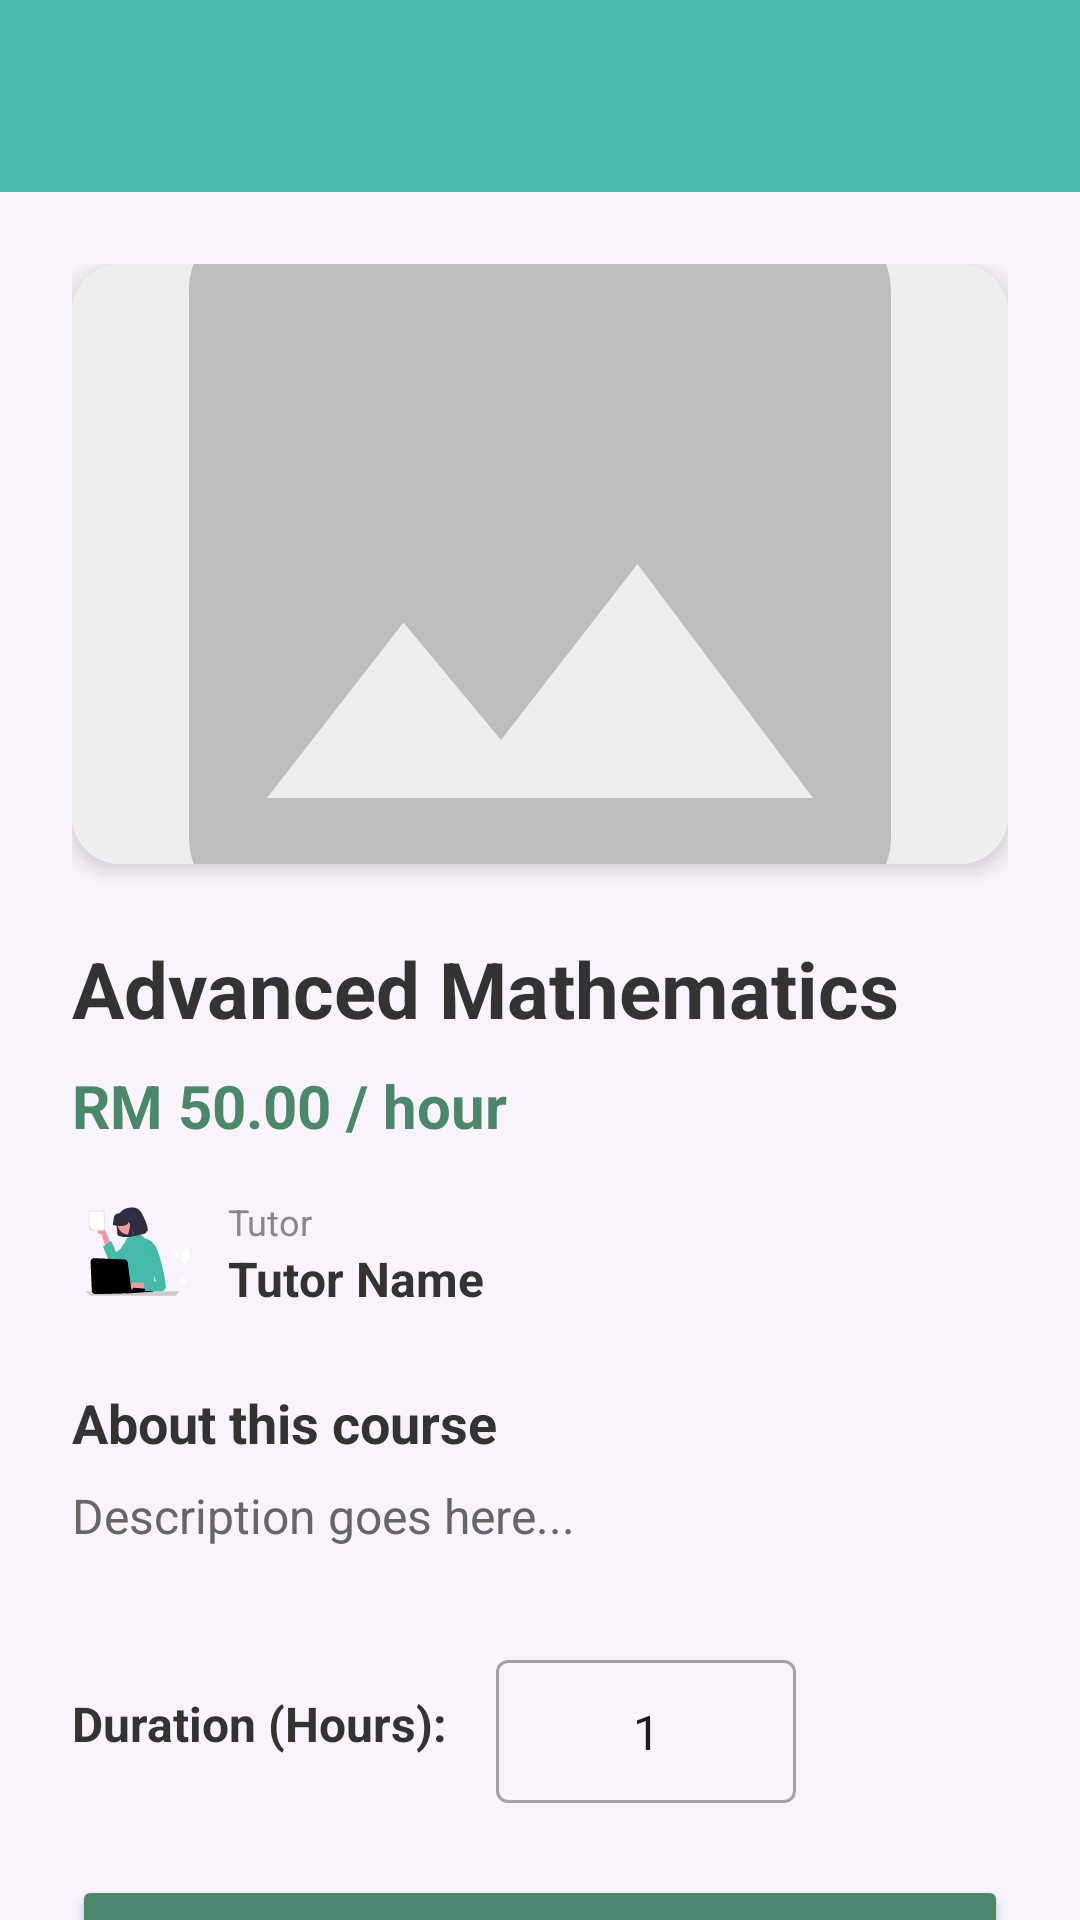

Icons on this 1080*1920 Android screen, each with its box as (x1=x1, y1=y1, x2=x2, y2=y2):
teacher: (x1=87, y1=1207, x2=179, y2=1296)
